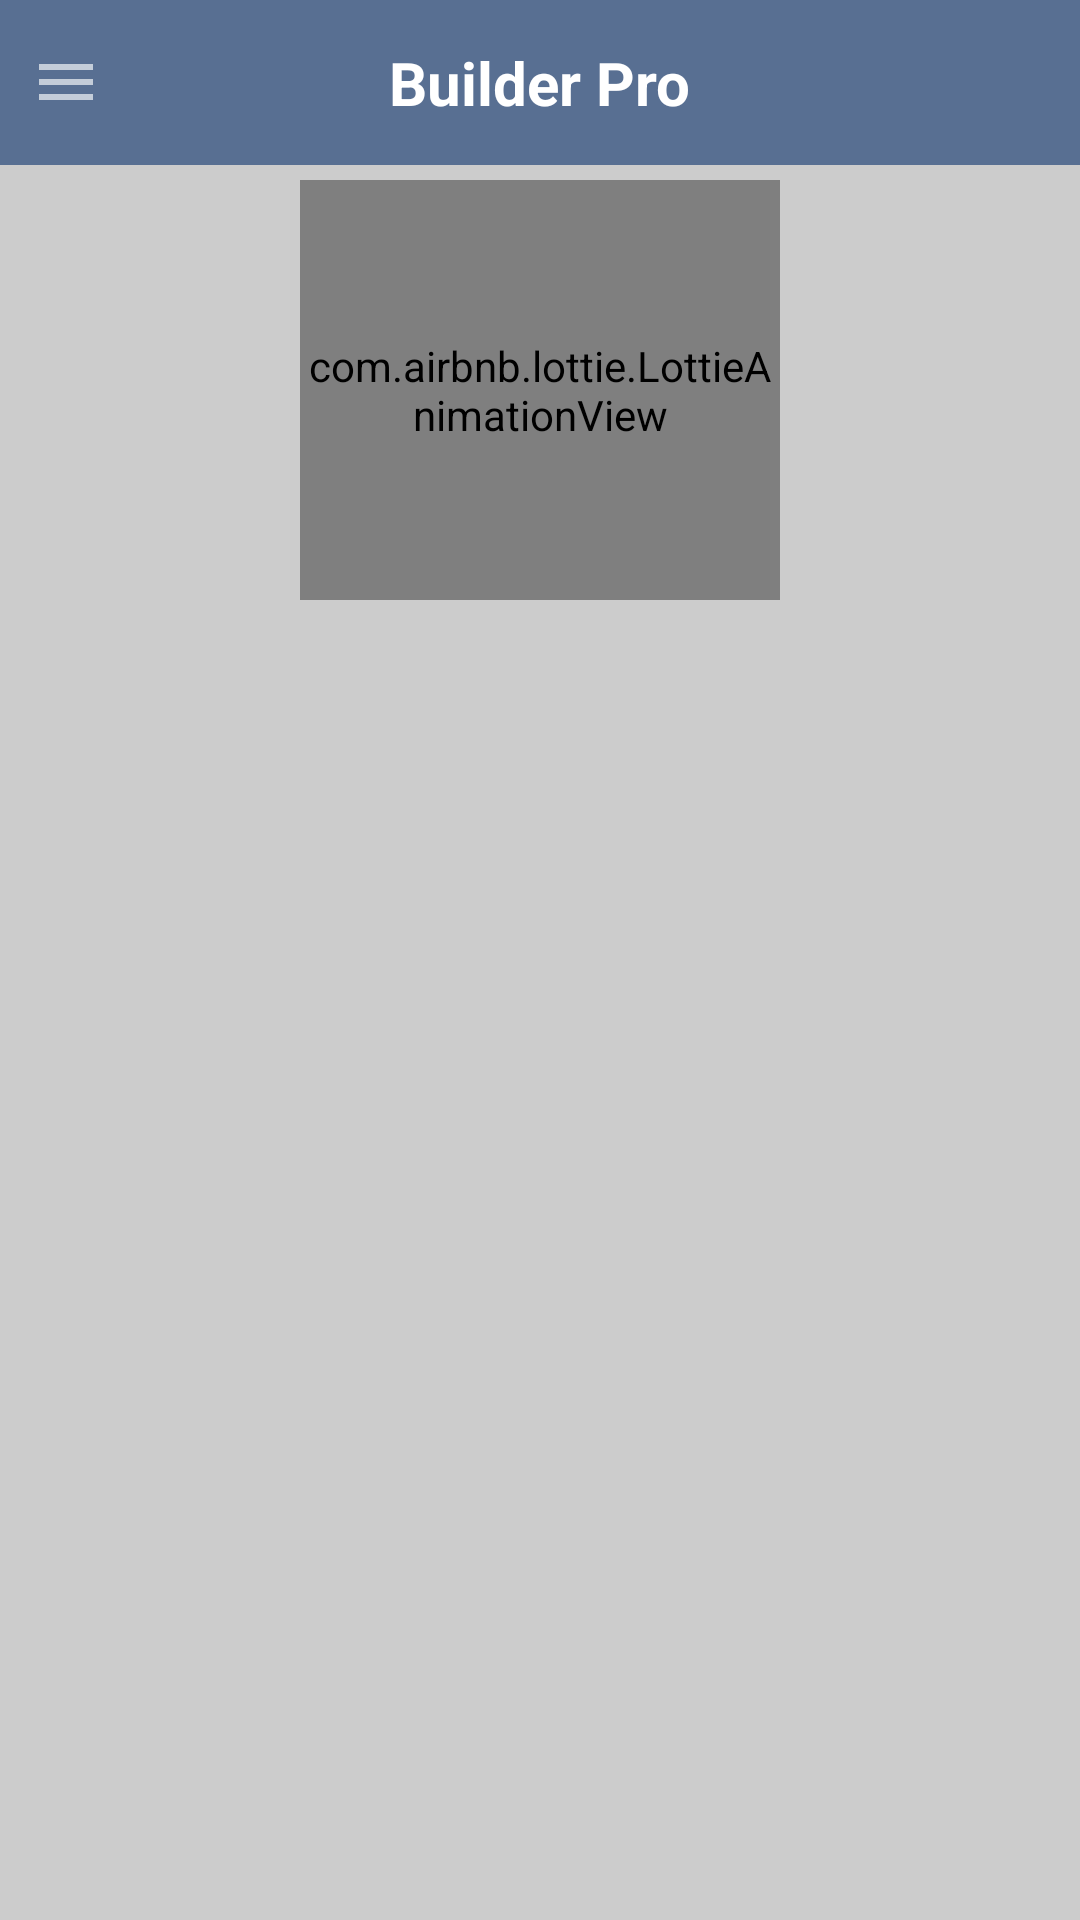

Point at icon controls on the screen. Image size 1080 × 1920, points as [x,y].
menu: [66,82]
